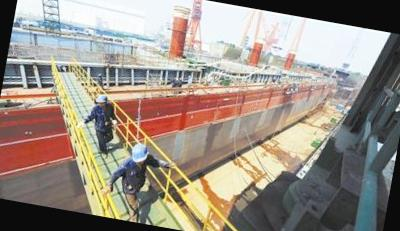person: (98, 138, 178, 225), (72, 90, 125, 161)
